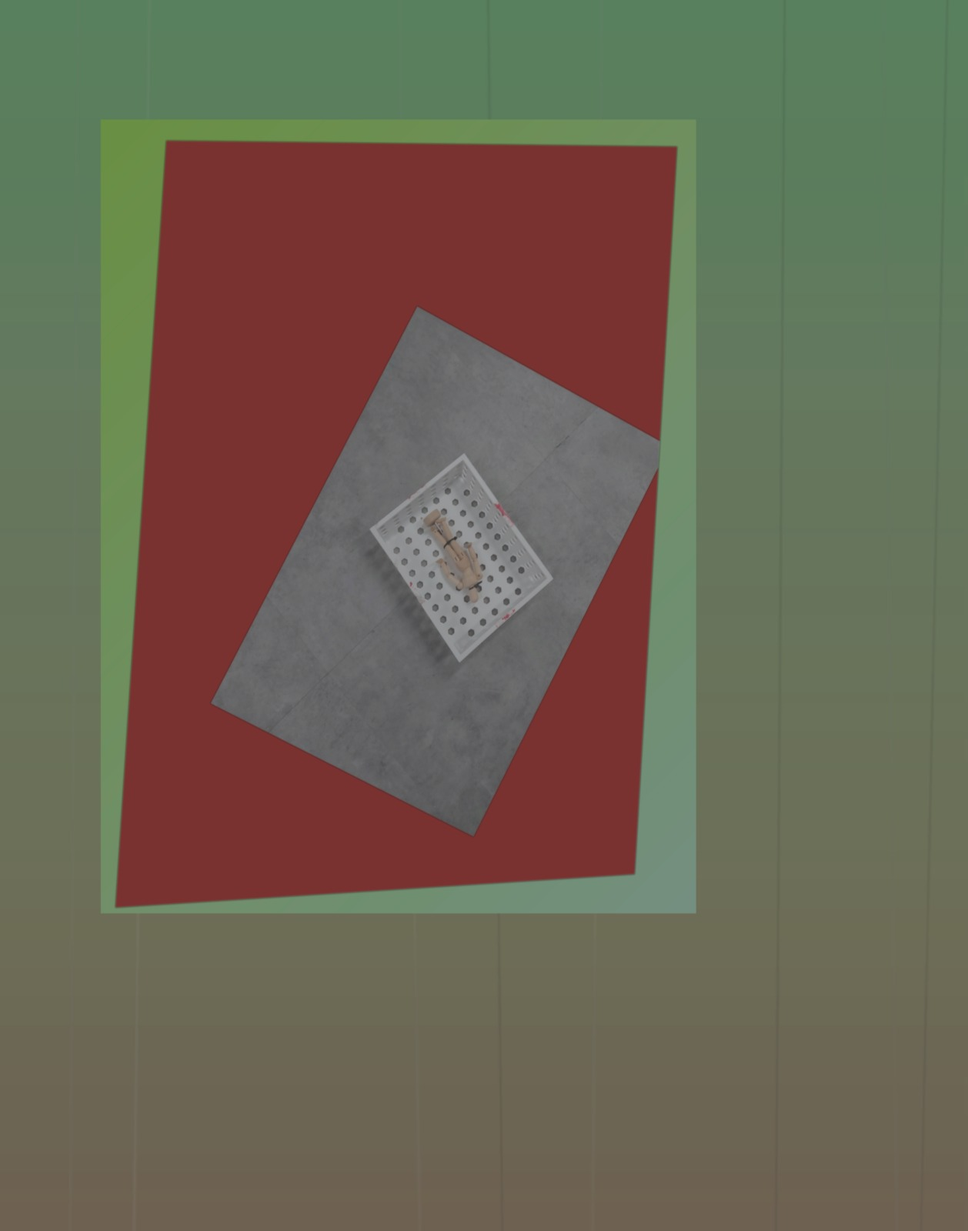basket: (366, 447, 559, 672)
mannequin: (422, 505, 489, 605)
